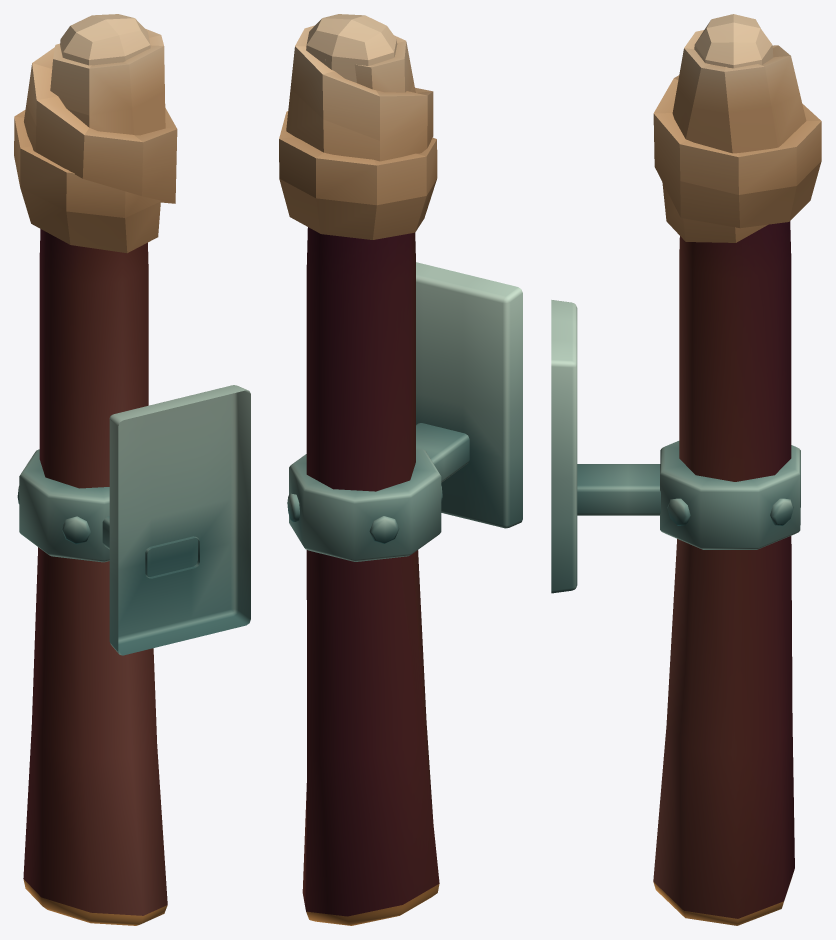
File: SM_torch_003.fbx
3 views of the same model, side by side, from view 1: azimuth 30°, elevation 25°; view 2: azimuth 150°, elevation 25°; view 3: azimuth 270°, elevation 25° (orthographic).
Visible parts, largest first — view 1: SM_torch_003; view 2: SM_torch_003; view 3: SM_torch_003.
Part boxes in pixels (x1,y1,x2,y2): SM_torch_003: (14,14,250,925); SM_torch_003: (279,14,522,925); SM_torch_003: (551,14,821,925).
Size of the model in its own units: 17.51 by 105 by 28.98.
